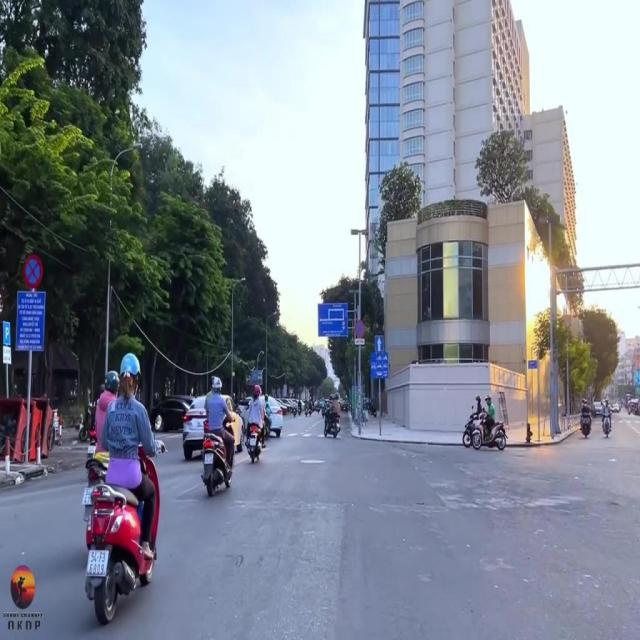cam_do_xe: (355, 320, 365, 338)
cam_dung_xe_va_do_xe: (23, 254, 44, 289)
duong_mot_chieu: (374, 336, 384, 351)
khac: (318, 304, 348, 336), (3, 320, 10, 342), (3, 346, 11, 364), (354, 338, 365, 344)
lan_duong_cho_tung_xe_theo_vach_ke_duong: (370, 352, 388, 378)
